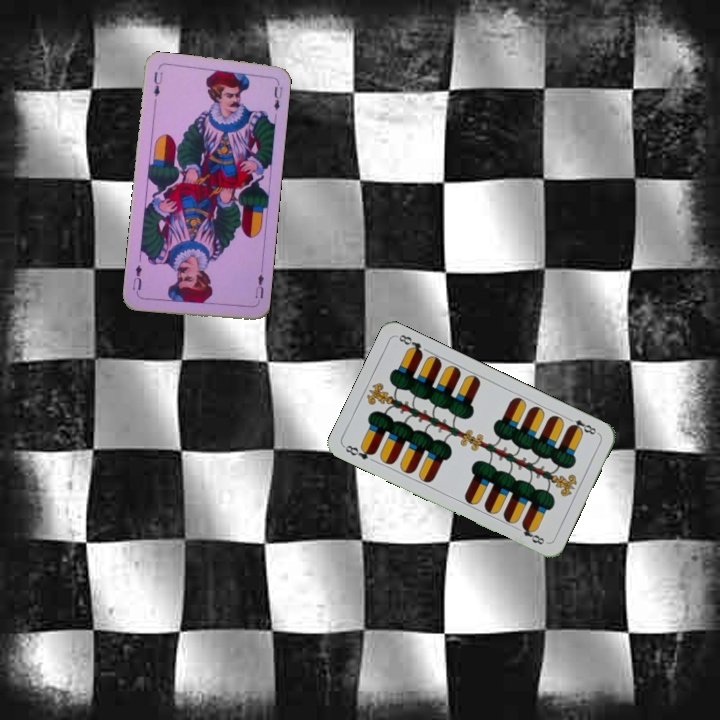E8: (563, 413, 601, 437), (340, 441, 378, 462)
EU: (251, 265, 266, 306), (149, 68, 165, 99)
